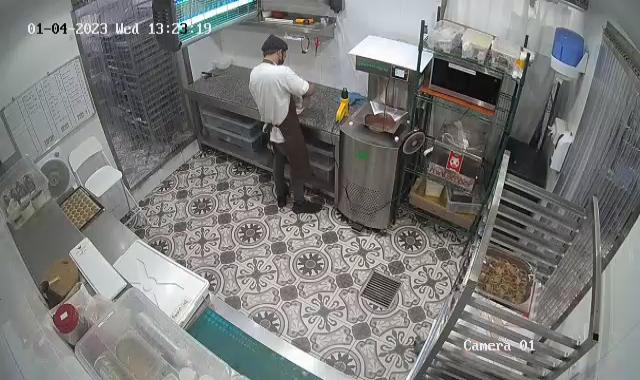no_hairnet: (260, 33, 288, 58)
